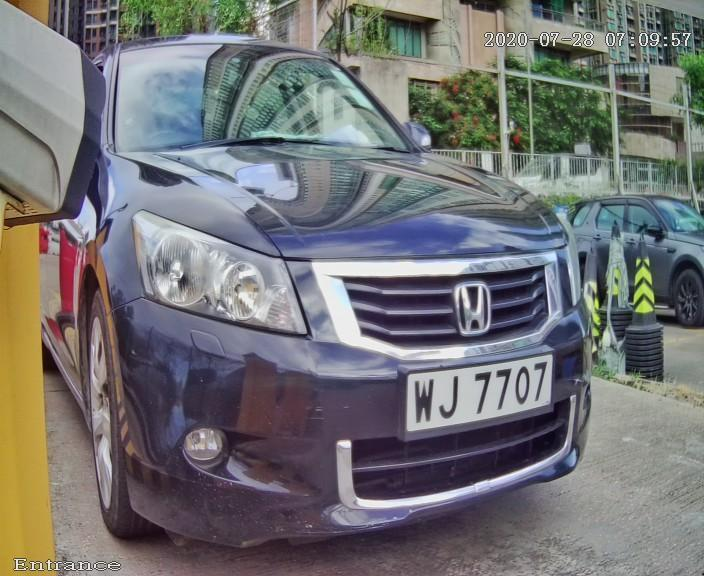privatecar: (29, 26, 654, 553)
